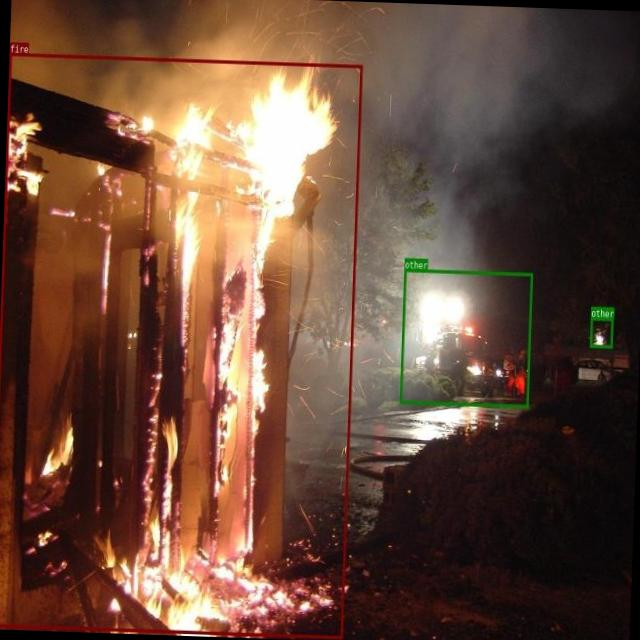fire: (0, 51, 361, 638)
